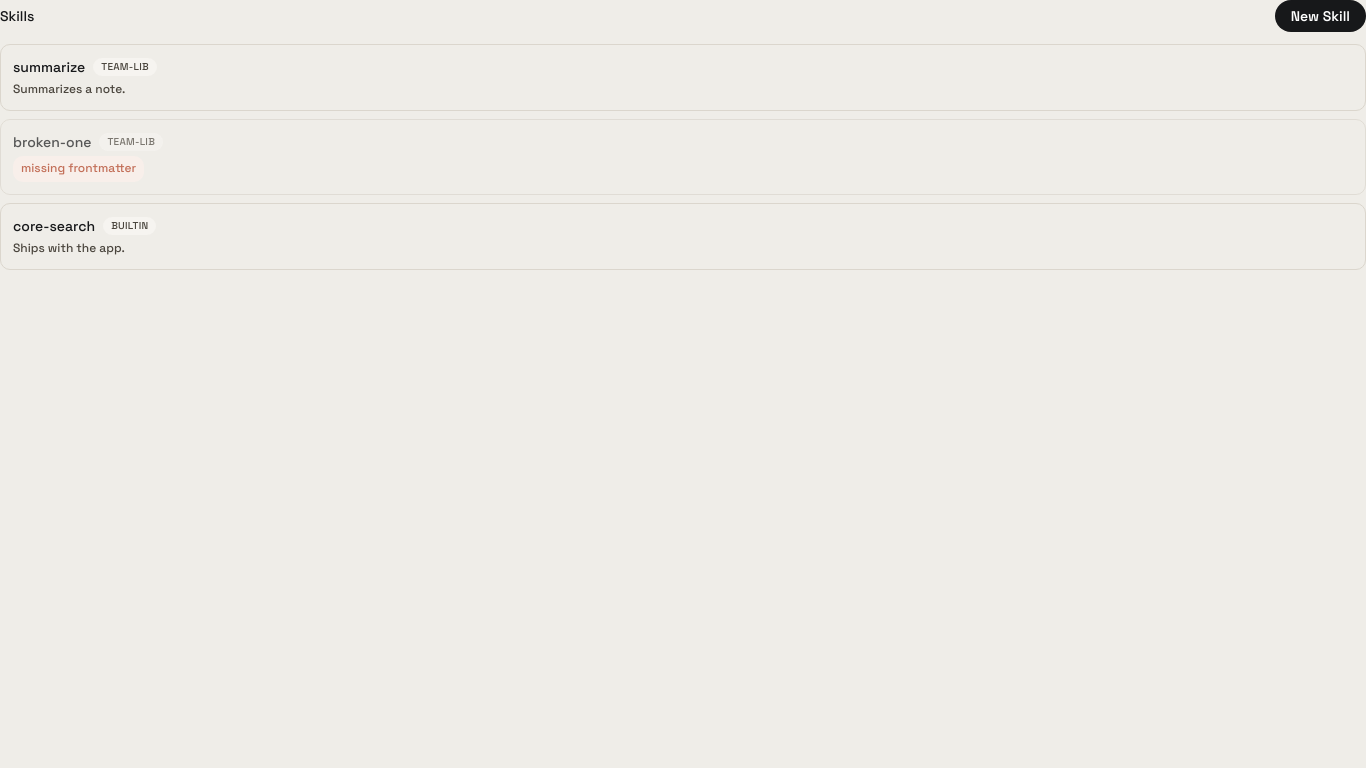
Test case: <SkillsBrowser /> › disables Create until a name is typed
Expected: the button with test id "skill-card-summarize" is shown, [0, 44, 1365, 111]
What coordinates should you click on to do the following:
click the button "New Skill"
I would click on:
 (1320, 16)
Its box is [1275, 0, 1365, 32].
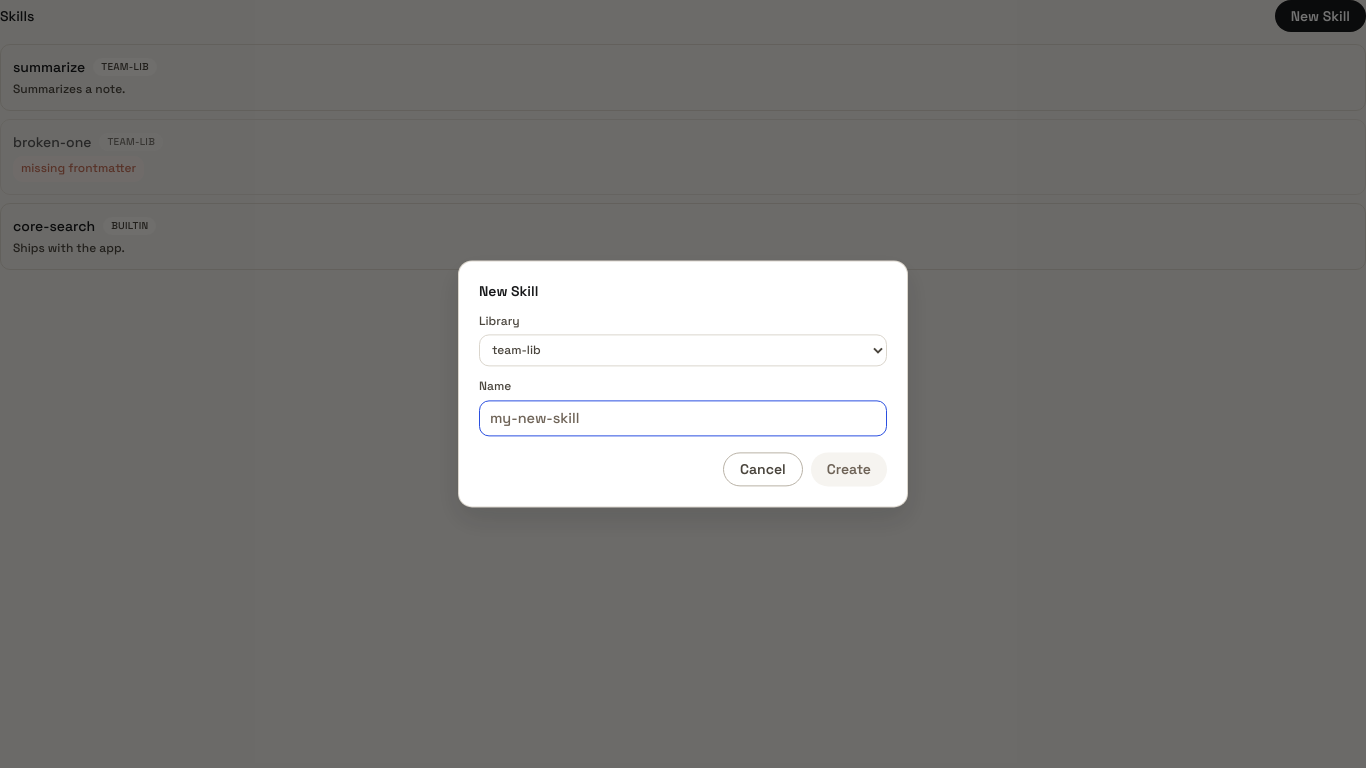
Result: the button "Create" is disabled at [811, 453, 887, 487]
